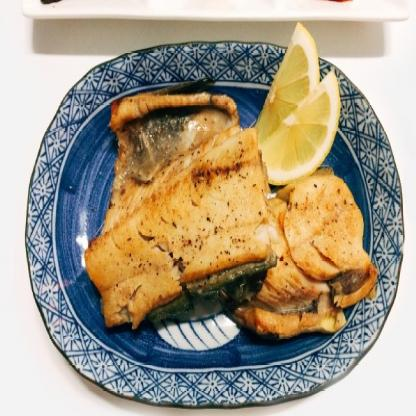Peixe: (89, 69, 366, 356)
